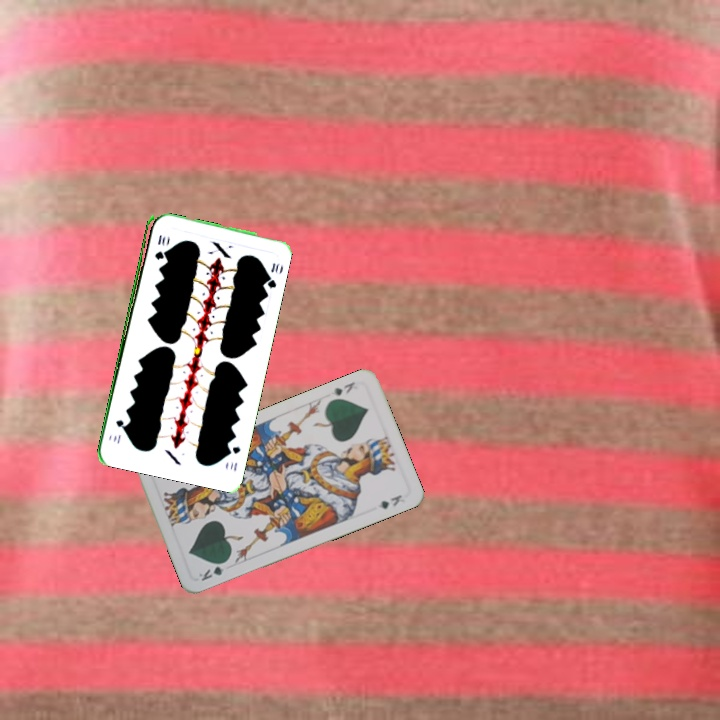G10: (223, 442, 243, 474), (151, 231, 164, 262)
GK: (195, 557, 231, 584), (329, 377, 357, 398)
